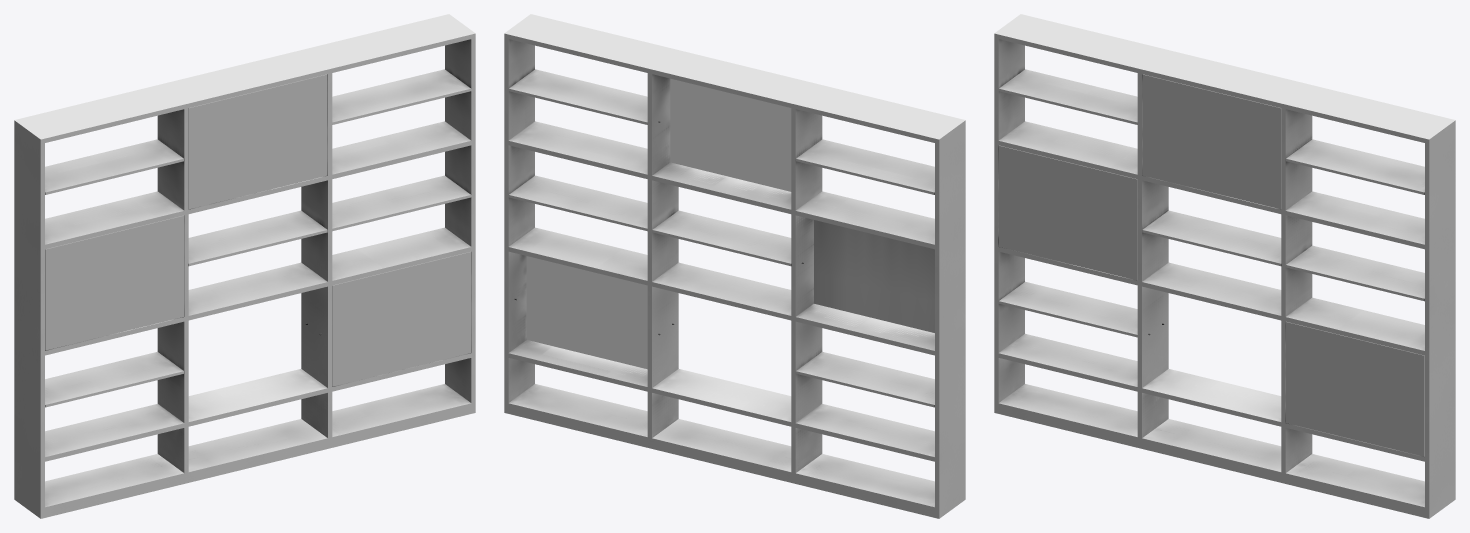
The model's file is shelf2.dae.
3 views of the same model, side by side, from view 1: azimuth 30°, elevation 25°; view 2: azimuth 150°, elevation 25°; view 3: azimuth 330°, elevation 25° (orthographic).
Parts seen in each view (by area): view 1: node; view 2: node; view 3: node.
Part boxes in pixels (left/top/right/bottom): node: left=14, top=14, right=475, bottom=518; node: left=504, top=14, right=965, bottom=518; node: left=994, top=14, right=1455, bottom=518.
Bounding box in the file's own units: 3 × 2.5 × 0.318.
2 materials, 1 textured.
